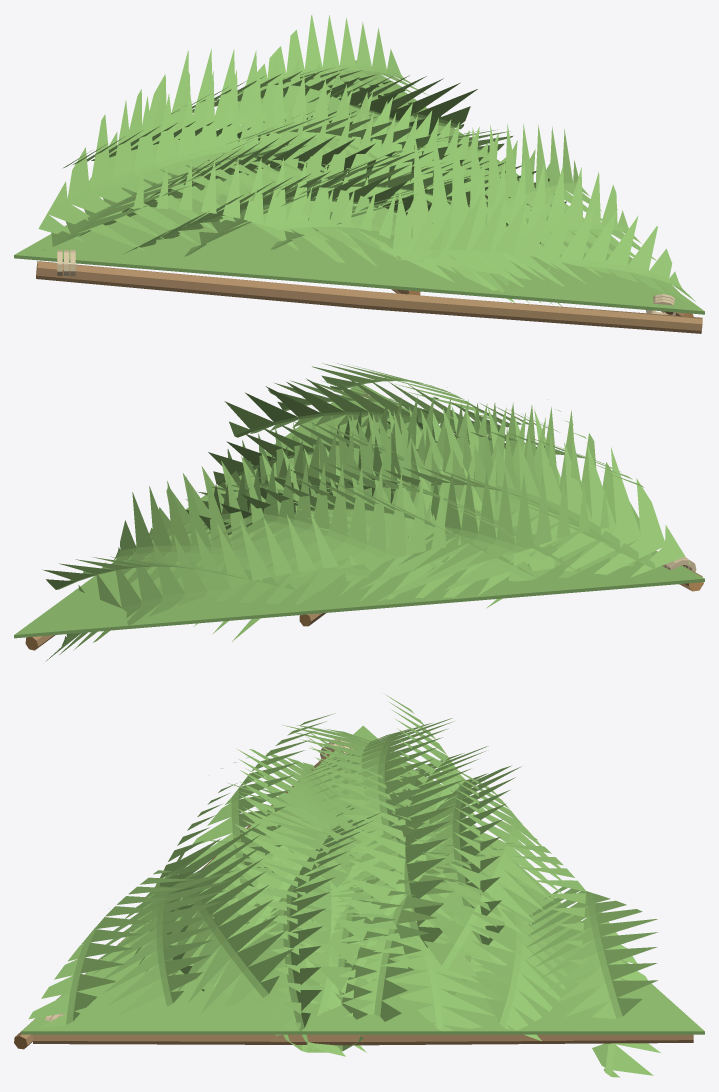
The model's file is architecture.roof.palm.fbx.
3 views of the same model, one above another, from view 1: azimuth 30°, elevation 25°; view 2: azimuth 150°, elevation 25°; view 3: azimuth 270°, elevation 25° (orthographic).
Parts seen in each view (by area): view 1: ROOF_leaf_02, ROOF_rafter, ROOF_leaf_41, ROOF_leaf_30, ROOF_leaf_40, ROOF_leaf_32, ROOF_leaf_00, ROOF_leaf_13, ROOF_leaf_45, ROOF_leaf_14, ROOF_leaf_20, ROOF_leaf_11 (+34 smaller); view 2: ROOF_leaf_25, ROOF_leaf_01, ROOF_leaf_44, ROOF_leaf_35, ROOF_leaf_24, ROOF_leaf_03, ROOF_leaf_30, ROOF_leaf_23, ROOF_leaf_12, ROOF_leaf_22, ROOF_leaf_21, ROOF_leaf_11 (+33 smaller); view 3: ROOF_leaf_30, ThatchBacking_00, ROOF_leaf_25, ROOF_leaf_45, ROOF_leaf_41, ROOF_leaf_44, ROOF_eave_beam, ROOF_leaf_24, ROOF_leaf_22, ROOF_leaf_02, ROOF_leaf_32, ROOF_leaf_40 (+22 smaller).
Boxes of the visible parts, <box> form: ROOF_leaf_02: <box>38,92,330,252</box>; ROOF_rafter: <box>36,261,702,333</box>; ROOF_leaf_41: <box>400,161,656,286</box>; ROOF_leaf_30: <box>380,123,602,302</box>; ROOF_leaf_40: <box>428,190,695,303</box>; ROOF_leaf_32: <box>219,110,565,266</box>; ROOF_leaf_00: <box>133,157,412,256</box>; ROOF_leaf_13: <box>89,70,409,244</box>; ROOF_leaf_45: <box>237,15,428,121</box>; ROOF_leaf_14: <box>149,48,379,139</box>; ROOF_leaf_20: <box>301,186,561,306</box>; ROOF_leaf_11: <box>124,171,447,253</box>; ROOF_leaf_25: <box>187,461,461,578</box>; ROOF_leaf_01: <box>372,441,690,577</box>; ROOF_leaf_44: <box>112,466,370,641</box>; ROOF_leaf_35: <box>45,512,356,661</box>; ROOF_leaf_24: <box>258,431,535,601</box>; ROOF_leaf_03: <box>390,471,609,577</box>; ROOF_leaf_30: <box>224,377,506,441</box>; ROOF_leaf_23: <box>267,463,555,601</box>; ROOF_leaf_12: <box>358,425,635,608</box>; ROOF_leaf_22: <box>337,396,545,500</box>; ROOF_leaf_21: <box>299,407,581,484</box>; ROOF_leaf_11: <box>404,402,640,540</box>; ROOF_leaf_30: <box>134,823,293,1013</box>; ThatchBacking_00: <box>21,1019,704,1034</box>; ROOF_leaf_25: <box>424,763,561,977</box>; ROOF_leaf_45: <box>511,887,658,1018</box>; ROOF_leaf_41: <box>91,869,237,1016</box>; ROOF_leaf_44: <box>444,855,567,1041</box>; ROOF_eave_beam: <box>33,1034,693,1045</box>; ROOF_leaf_24: <box>318,763,512,1001</box>; ROOF_leaf_22: <box>199,768,355,998</box>; ROOF_leaf_02: <box>305,718,454,871</box>; ROOF_leaf_32: <box>230,811,383,1035</box>; ROOF_leaf_40: <box>28,870,194,1028</box>.
Size of the model in its own units: 1.3 by 0.4487 by 1.52.
